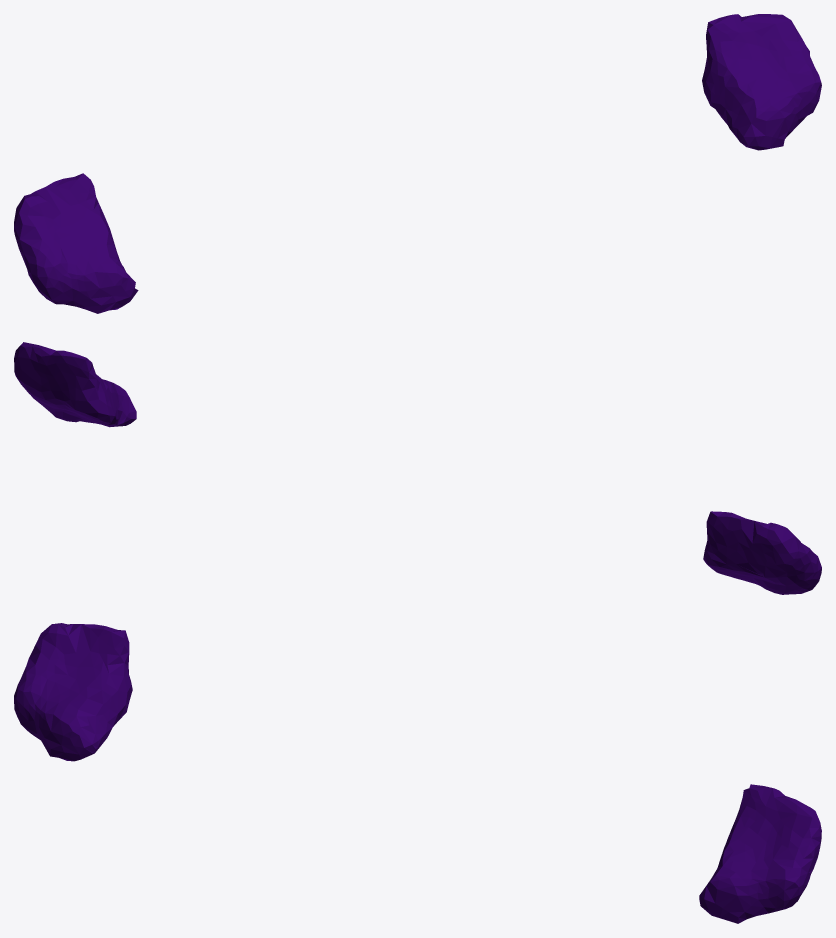
Rendered from 177-S2E-secondary somatosensory cortex, external part-('0.2667', '0.0000', '0.4980').obj.
3 renders of one model, top to bottom at view 1: azimuth 30°, elevation 25°; view 2: azimuth 150°, elevation 25°; view 3: azimuth 330°, elevation 25°, orthographic.
Bounding box in the file's own units: 355 × 44.56 × 37.95.
